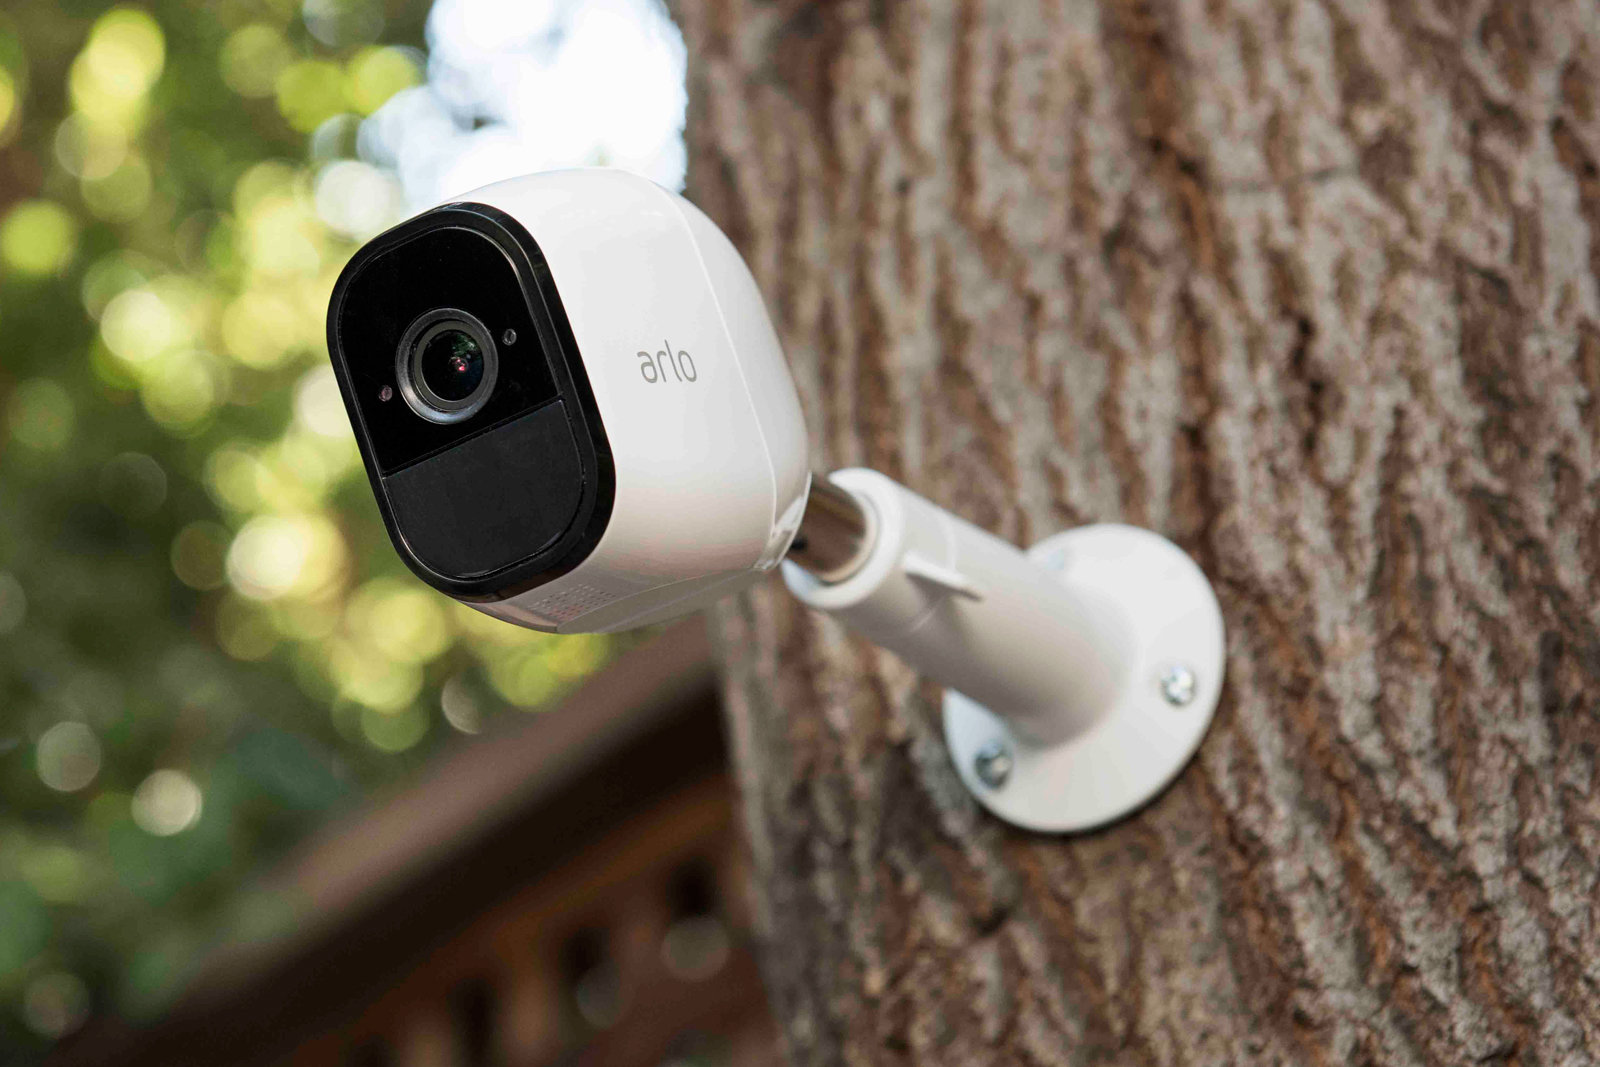Nest Cam: (288, 152, 876, 651)
